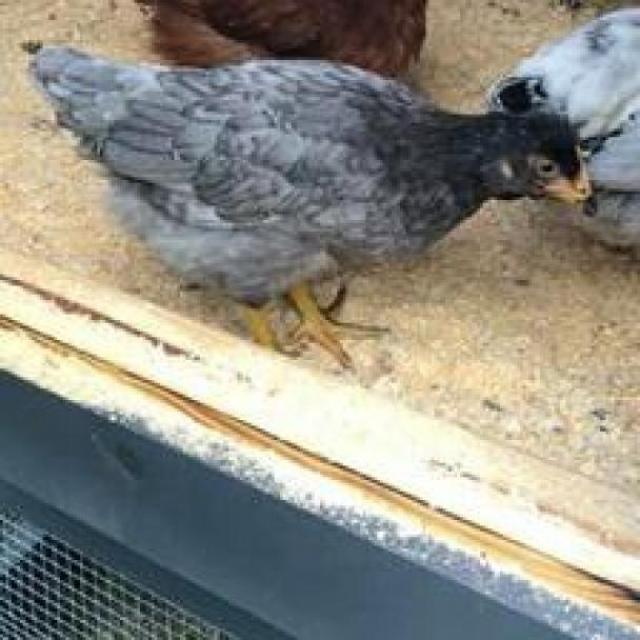Chicken: (16, 18, 611, 382)
